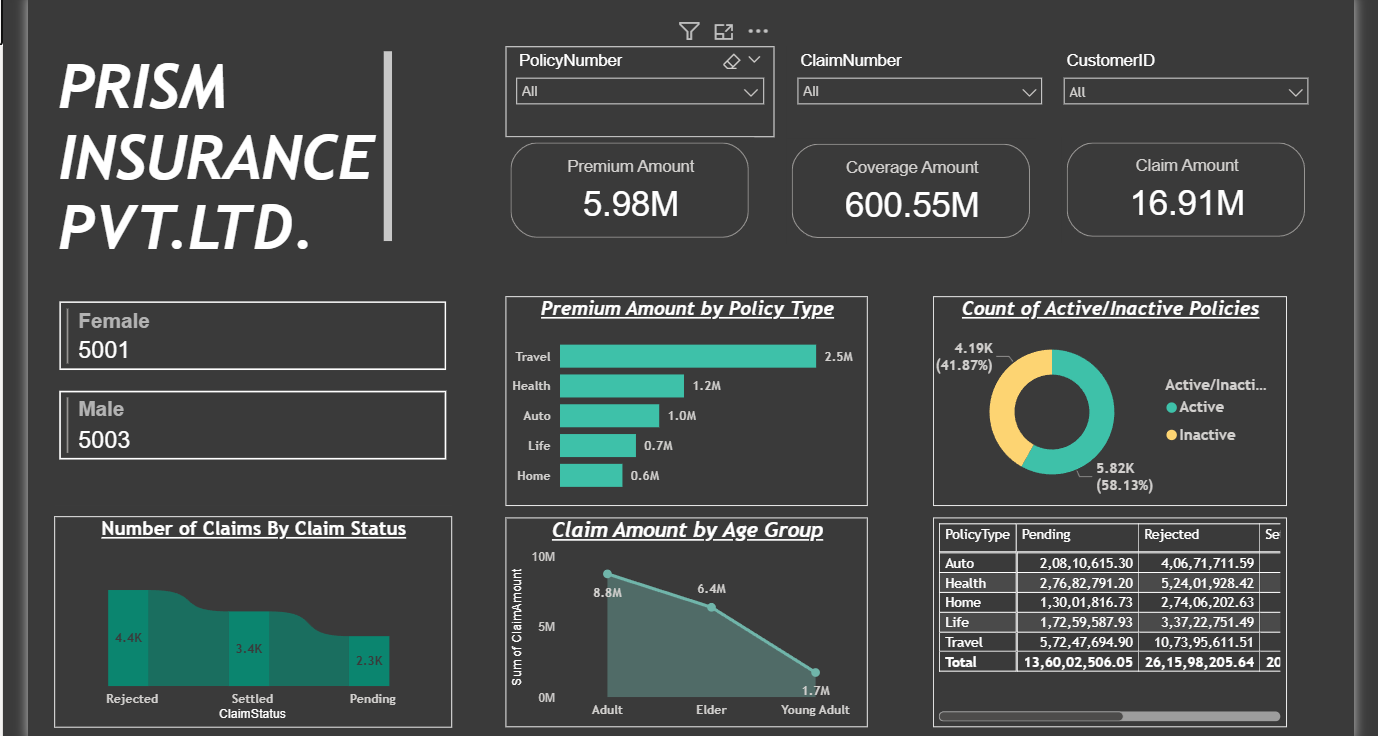

The dashboard page shown, as its layout file describes it:
{"tool":"powerbi","page":{"name":"Page 1","canvas":[1280,720],"ordinal":0},"visuals":[{"type":"slicer","fields":{"Values":["InsuranceData.PolicyNumber"]},"box":[461.1,49.4,259.3,87.8],"z":0},{"type":"slicer","fields":{"Values":["InsuranceData.ClaimNumber"]},"box":[732.8,49.4,256.6,87.8],"z":1000},{"type":"slicer","fields":{"Values":["InsuranceData.CustomerID"]},"box":[989.4,49.4,256.6,87.8],"z":2000},{"type":"textbox","box":[24.7,49.4,332.1,203.1],"z":3000},{"type":"cardVisual","fields":{"Data":["Sum(InsuranceData.PremiumAmount)"]},"box":[461.1,137.2,240.1,102.9],"z":4000},{"type":"cardVisual","fields":{"Data":["Sum(InsuranceData.CoverageAmount)"]},"box":[732.8,138.6,240.1,101.5],"z":5000},{"type":"cardVisual","fields":{"Data":["Sum(InsuranceData.ClaimAmount)"]},"box":[997.6,137.2,240.1,101.5],"z":6000},{"type":"multiRowCard","fields":{"Values":["InsuranceData.Gender","CountNonNull(InsuranceData.Gender)"]},"box":[25.3,290.8,383.6,202.7],"z":7000},{"type":"ribbonChart","title":"Number of Claims By  Claim Status ","fields":{"Category":["InsuranceData.ClaimStatus"],"Y":["CountNonNull(InsuranceData.ClaimStatus)"]},"box":[25.3,503.1,383.6,203.9],"z":8000},{"type":"barChart","title":" Premium Amount by Policy Type","fields":{"Category":["InsuranceData.PolicyType"],"Y":["Sum(InsuranceData.PremiumAmount)"]},"box":[460.9,290.8,349.9,202.7],"z":9000},{"type":"lineChart","title":" Claim Amount by Age Group","fields":{"Category":["InsuranceData.Age Group"],"Y":["Sum(InsuranceData.ClaimAmount)"]},"box":[460.9,504.3,349.9,202.7],"z":10000},{"type":"donutChart","title":"Count of Active/Inactive  Policies","fields":{"Category":["InsuranceData.Active/Inactive"],"Y":["CountNonNull(InsuranceData.Active/Inactive)"]},"box":[873.5,290.8,341.4,202.7],"z":11000},{"type":"pivotTable","fields":{"Values":["Sum(InsuranceData.CoverageAmount)"],"Rows":["InsuranceData.PolicyType"],"Columns":["InsuranceData.ClaimStatus"]},"box":[873.5,504.3,341.4,202.7],"z":12000}]}

Visuals, with their boxes on the page's 1280x720 design canvas (x1, y1, x2, y2). These are canvas units, not pixel positions in the 1378x736 screenshot, which may show the page scaled, cropped or inside an application window:
slicer - InsuranceData.PolicyNumber: [461,49,720,137]
slicer - InsuranceData.ClaimNumber: [733,49,989,137]
slicer - InsuranceData.CustomerID: [989,49,1246,137]
textbox: [25,49,357,252]
cardVisual - Sum(InsuranceData.PremiumAmount): [461,137,701,240]
cardVisual - Sum(InsuranceData.CoverageAmount): [733,139,973,240]
cardVisual - Sum(InsuranceData.ClaimAmount): [998,137,1238,239]
multiRowCard - InsuranceData.Gender x CountNonNull(InsuranceData.Gender): [25,291,409,494]
"Number of Claims By  Claim Status " ribbonChart: [25,503,409,707]
" Premium Amount by Policy Type" barChart: [461,291,811,494]
" Claim Amount by Age Group" lineChart: [461,504,811,707]
"Count of Active/Inactive  Policies" donutChart: [874,291,1215,494]
pivotTable - Sum(InsuranceData.CoverageAmount) x InsuranceData.PolicyType: [874,504,1215,707]
